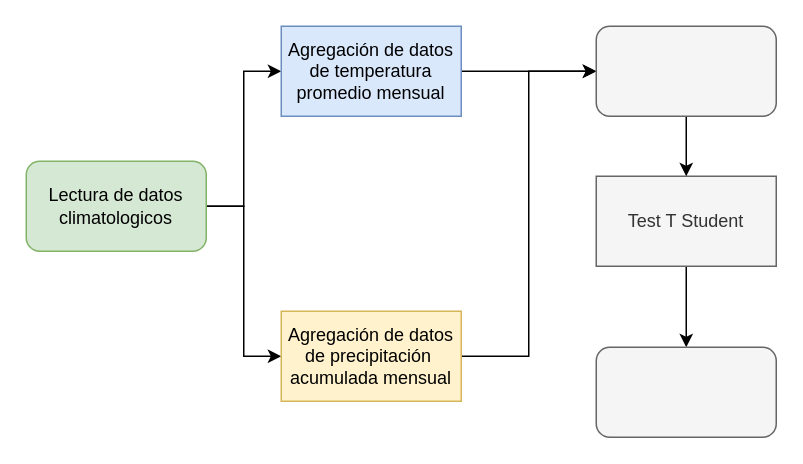
This 803x464 diagram has some shape labels left out. The shapes that lost their labels are listed below. From the top down, each one's centre as x and y in pixels, then its label:
At [685,70]: "Seleción de datos por año 2022-2023".
At [685,391]: "Resultados".
